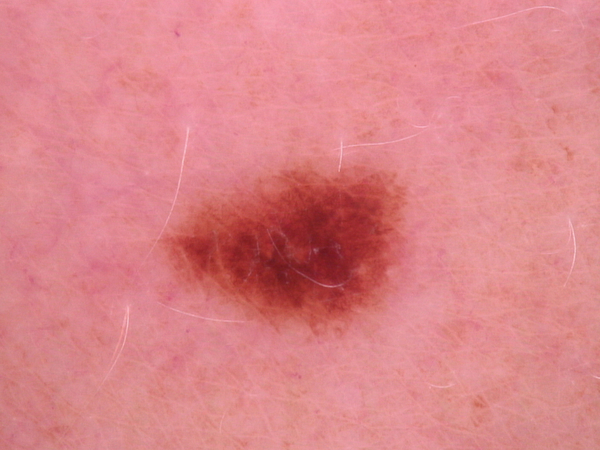Detected Lesion: (155, 159, 406, 334)
